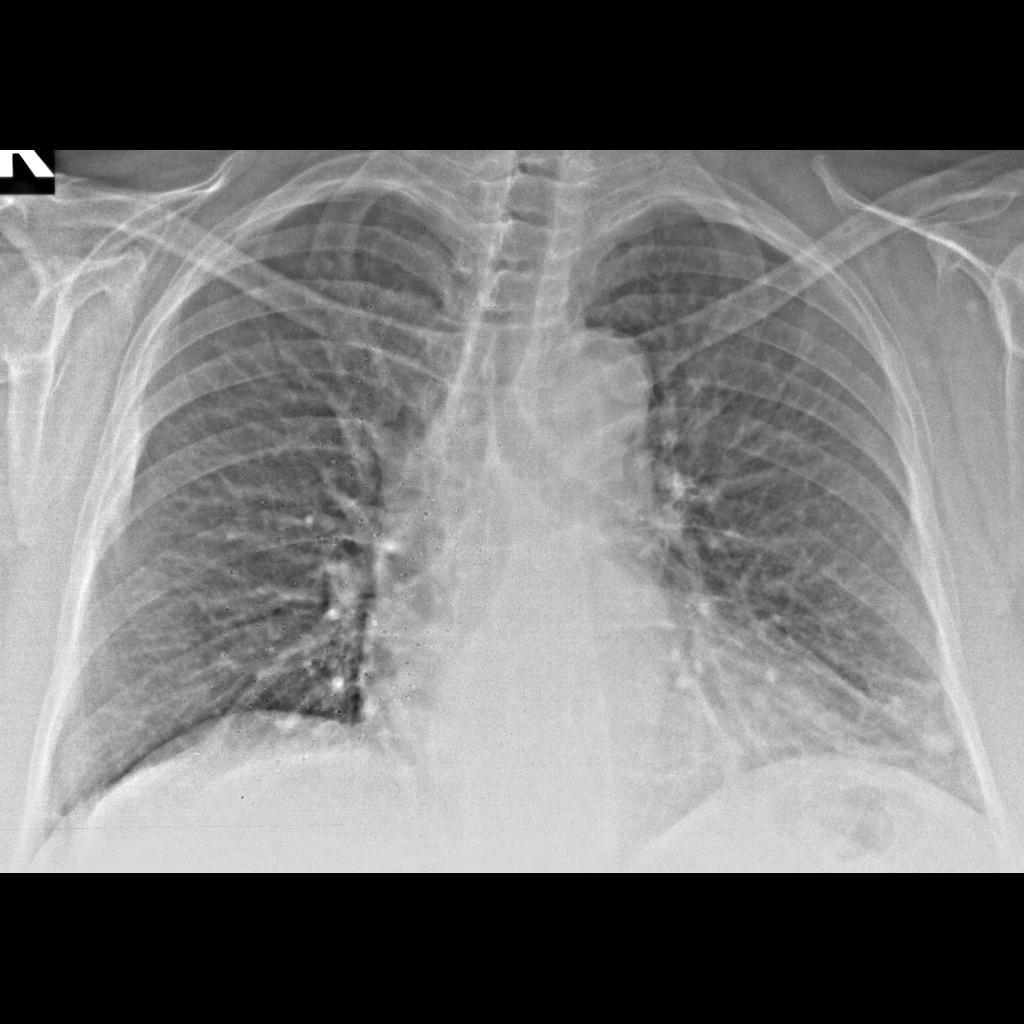Nodule: (887, 687, 970, 777)
